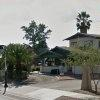Tree: (3, 20, 60, 84)
